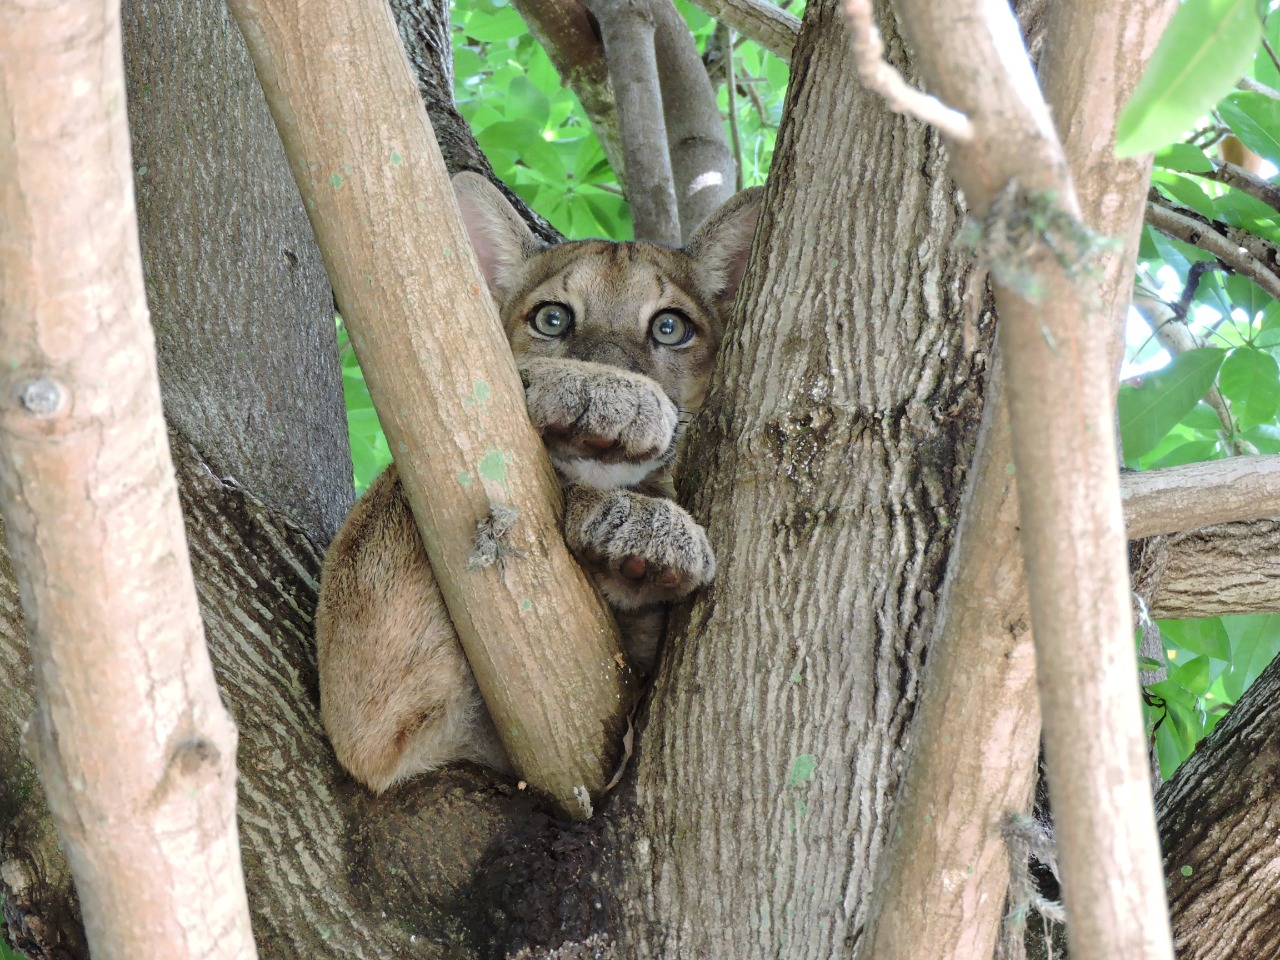OncaParda: (262, 158, 794, 804)
